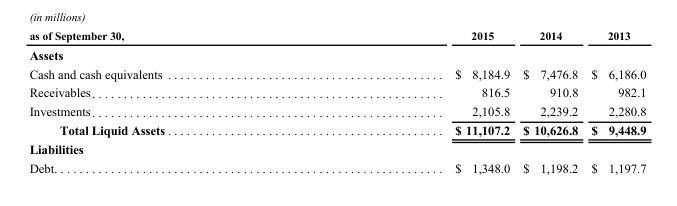table: (28, 28, 645, 175)
table column: (28, 28, 309, 175), (309, 28, 515, 175), (515, 28, 583, 175), (583, 28, 645, 175)
table column header: (28, 28, 645, 44)
table projected row header: (28, 44, 645, 63), (28, 139, 645, 158)
table row: (28, 44, 645, 63), (28, 63, 645, 82), (28, 82, 645, 101), (28, 101, 645, 120), (28, 120, 645, 139), (28, 139, 645, 158), (28, 158, 645, 175), (28, 28, 645, 44)
